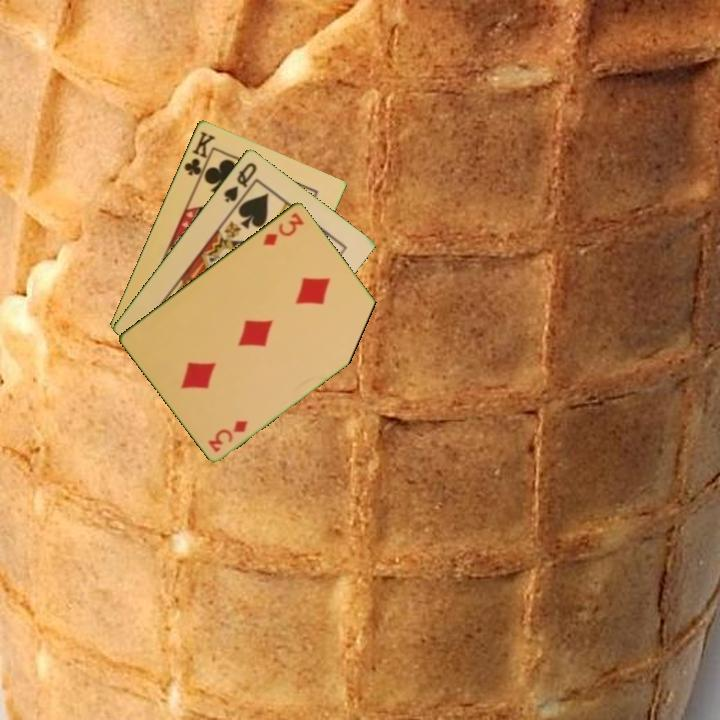3d: (259, 208, 307, 248), (204, 416, 251, 455)
Kc: (180, 127, 218, 184)
Qs: (220, 158, 260, 205)
